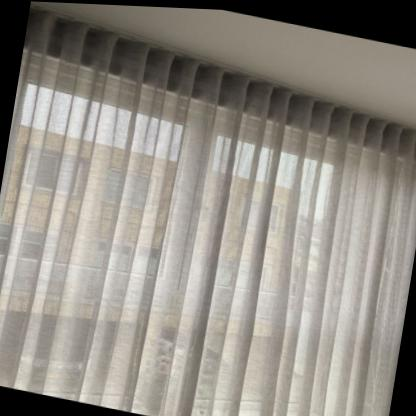Curtains: (0, 6, 416, 416)
